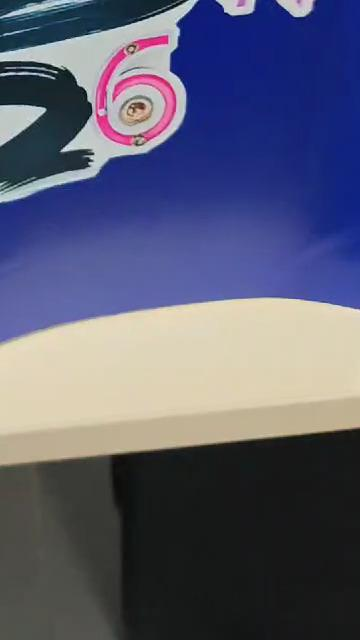B_R1: (0, 0, 353, 293)
